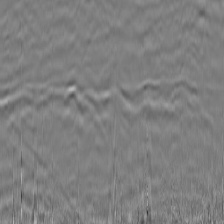cavities: (39, 41, 224, 183)
